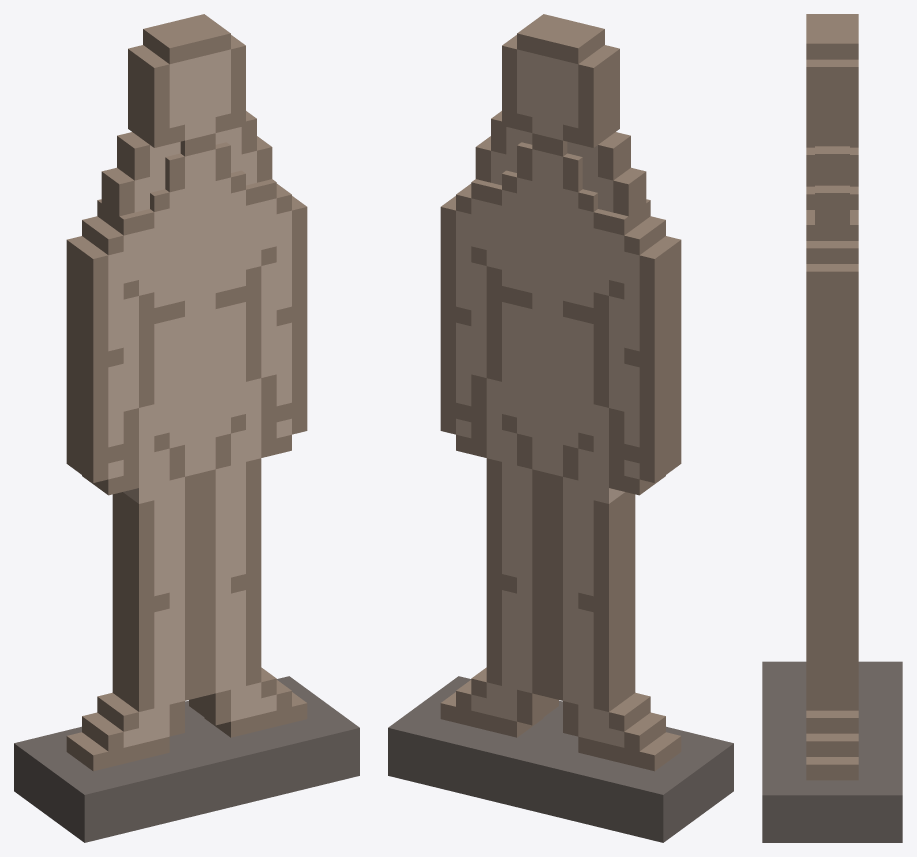
File: KourosFinal.fbx
The picture shows the model from 3 angles, left to right: view 1: azimuth 30°, elevation 25°; view 2: azimuth 150°, elevation 25°; view 3: azimuth 270°, elevation 25°; orthographic projection.
Visible parts, largest first — view 1: generated; view 2: generated; view 3: generated.
Part boxes in pixels (x1=…): generated: x1=14, y1=14, x2=359, y2=842; generated: x1=388, y1=14, x2=733, y2=842; generated: x1=762, y1=14, x2=902, y2=842.
Size of the model in its own units: 18 by 47 by 8.
